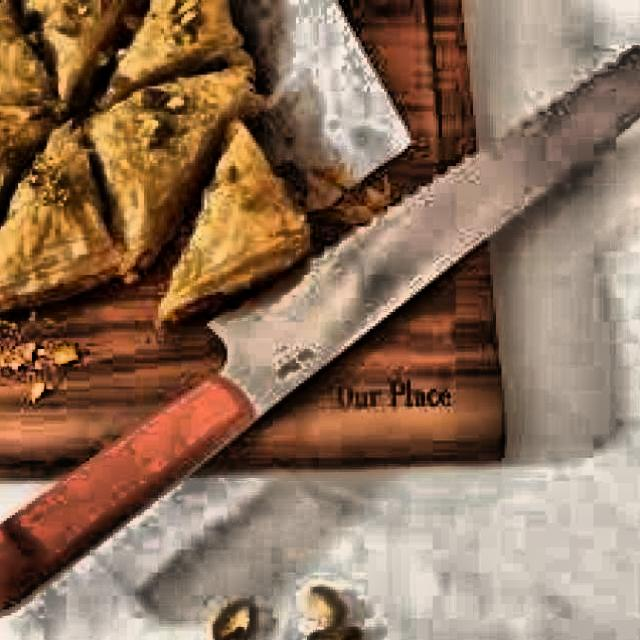knife: (0, 31, 640, 625)
